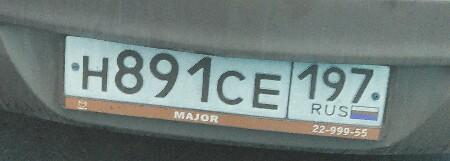license-plateSW: (63, 33, 393, 130)
